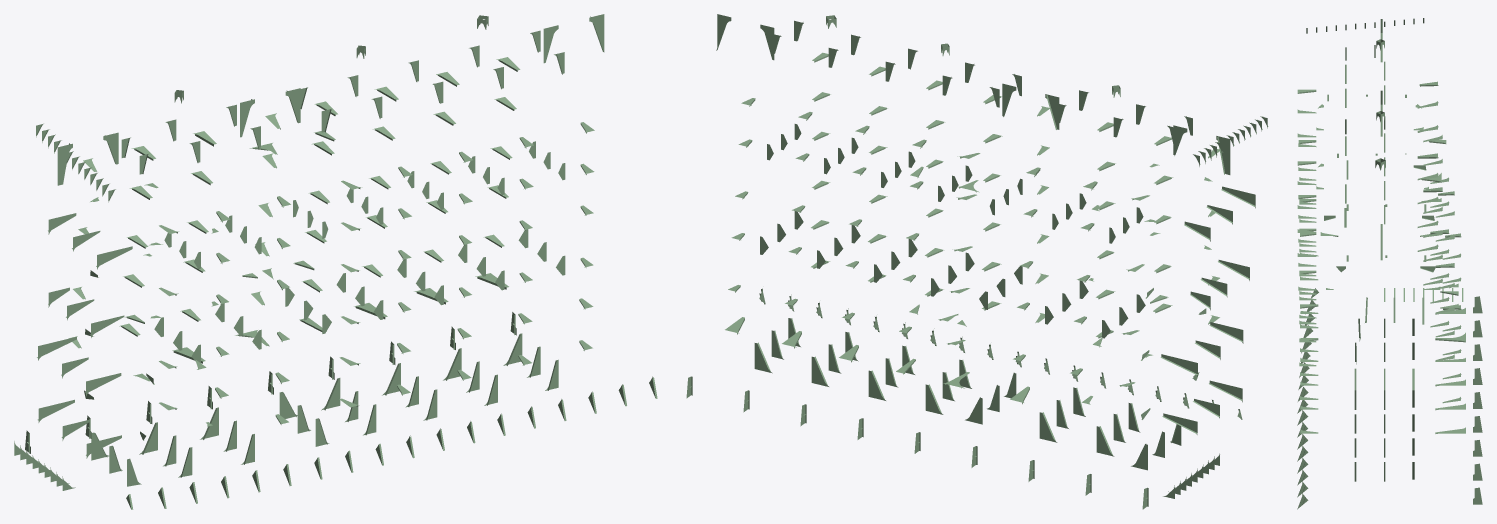
The model's file is NO_4_WING_WATER_BLT_TK_SB.glb.
3 views of the same model, side by side, from view 1: azimuth 30°, elevation 25°; view 2: azimuth 150°, elevation 25°; view 3: azimuth 270°, elevation 25° (orthographic). The views are drawn at different scales.
Bounding box in the file's own units: 47.31 × 31.5 × 17.16.
